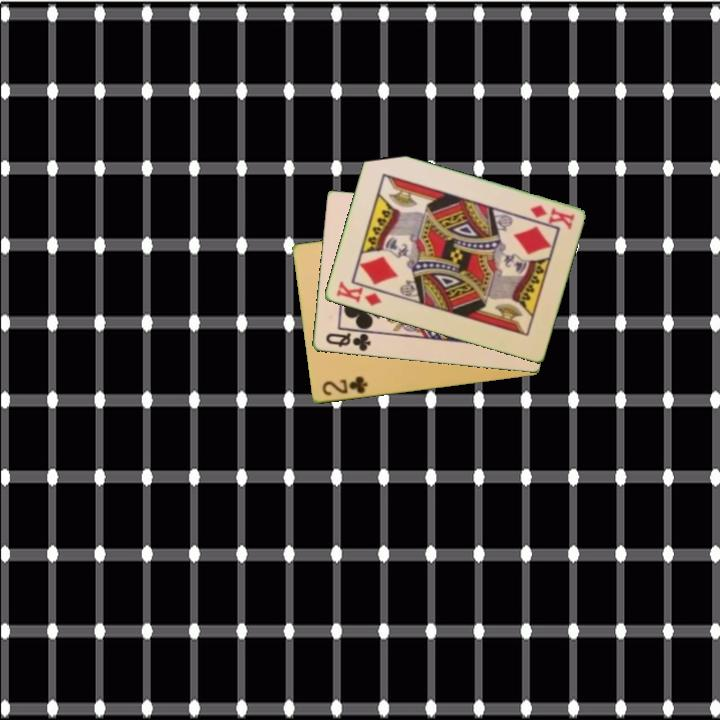2c: (318, 373, 370, 399)
Kd: (332, 278, 384, 309), (526, 201, 577, 232)
Qc: (322, 329, 373, 354)
